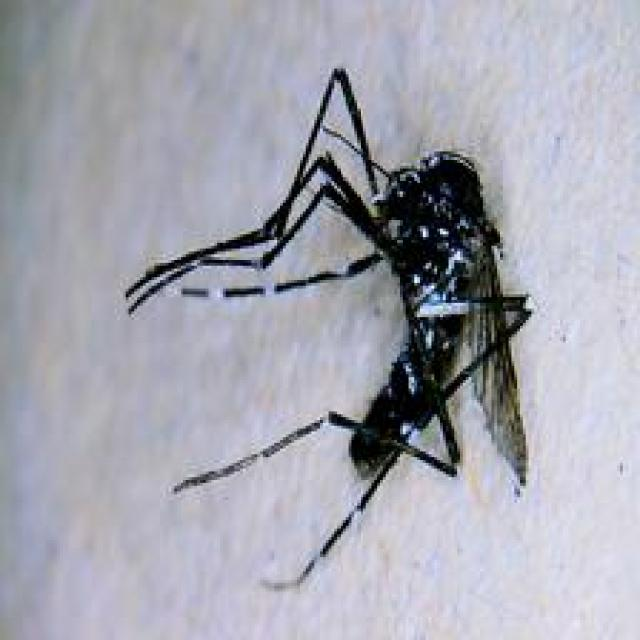Aedes albopictus: (123, 66, 534, 591)
